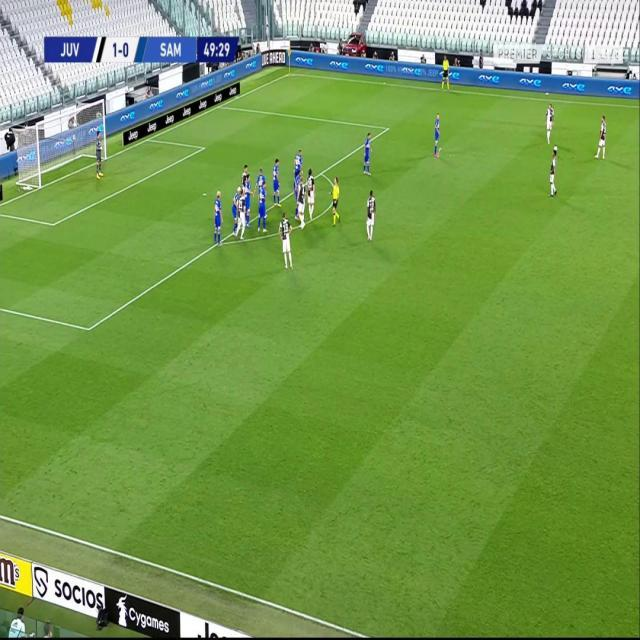ball: (553, 145, 559, 151)
player: (279, 210, 293, 270), (365, 188, 377, 242), (304, 166, 315, 223), (213, 189, 224, 246), (329, 174, 341, 225), (595, 114, 608, 160), (548, 151, 560, 197), (297, 178, 307, 230), (258, 181, 268, 233), (272, 157, 282, 208), (362, 132, 373, 176), (238, 187, 247, 240), (95, 129, 104, 180), (544, 103, 555, 144), (433, 112, 443, 156), (232, 185, 240, 237), (245, 174, 252, 228), (294, 168, 300, 218), (294, 148, 303, 177), (254, 169, 265, 192), (241, 165, 249, 189)
referee: (440, 55, 451, 91)
